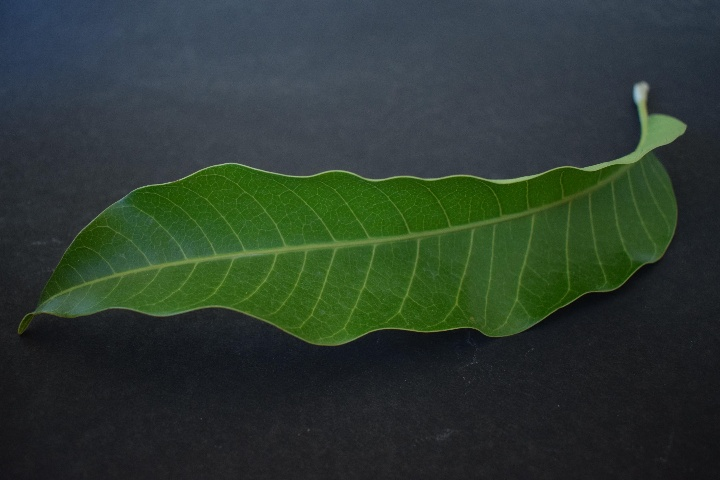healthy: (68, 127, 687, 351)
